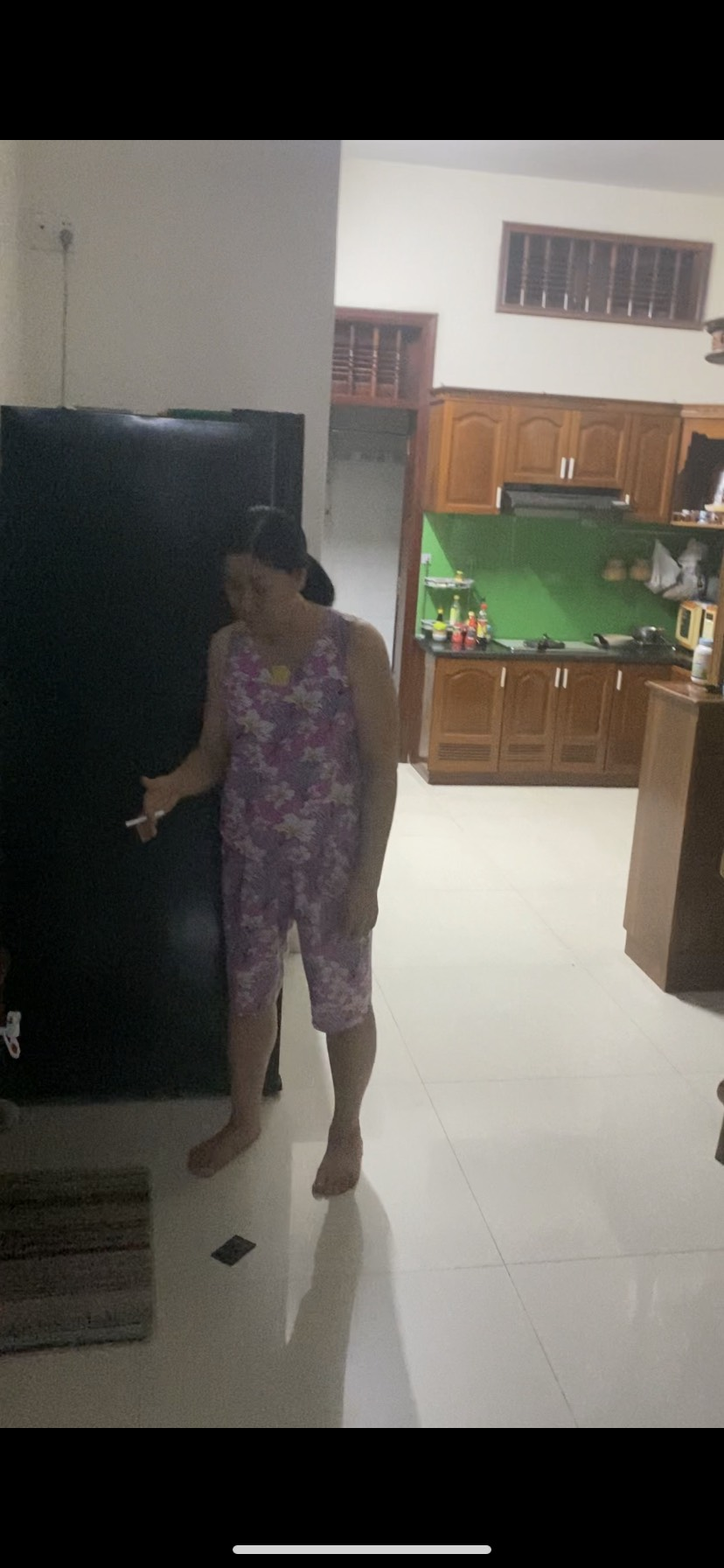cigarette: (122, 812, 149, 830)
person: (132, 490, 407, 1207)
